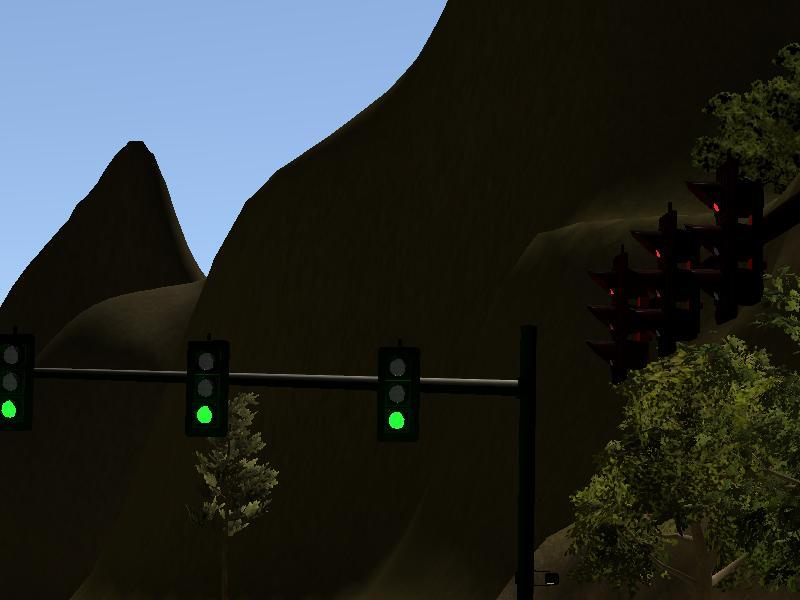Green: (376, 345, 420, 443), (185, 339, 227, 439), (1, 334, 34, 433)
